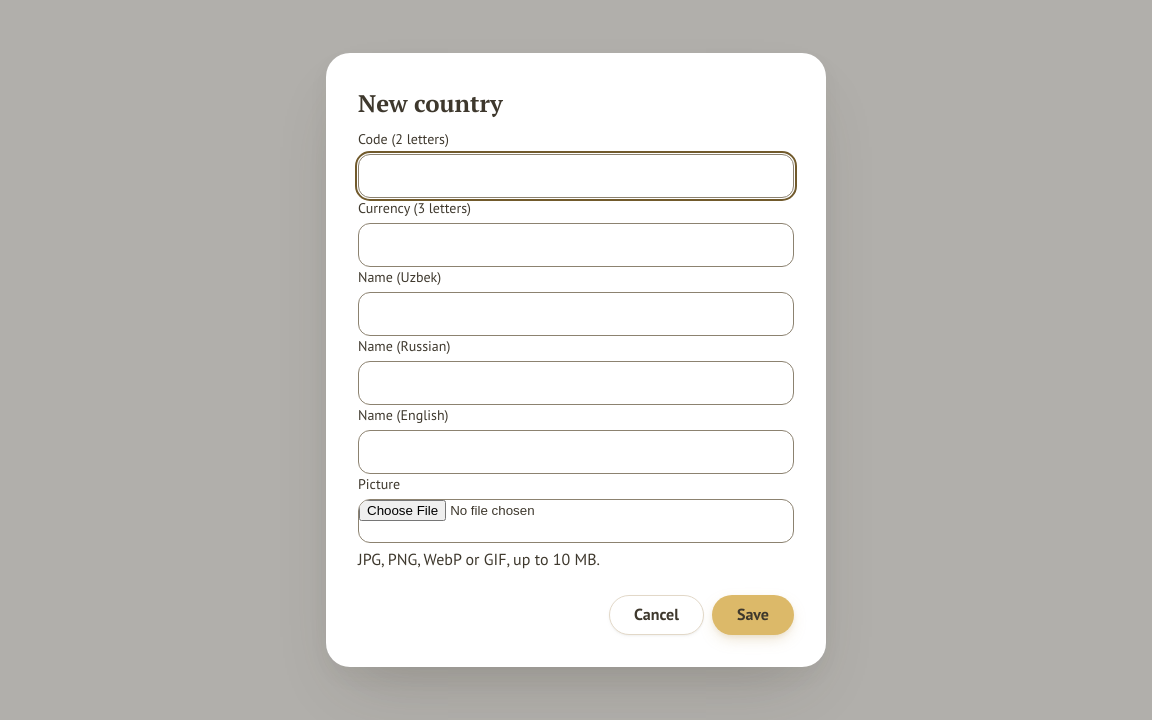
Test: GeographyRowDialog picture › refuses to add a country without a picture and says so
Type "tr" into the field labelled "Code (2 letters)" at (576, 176), box [358, 154, 794, 198]
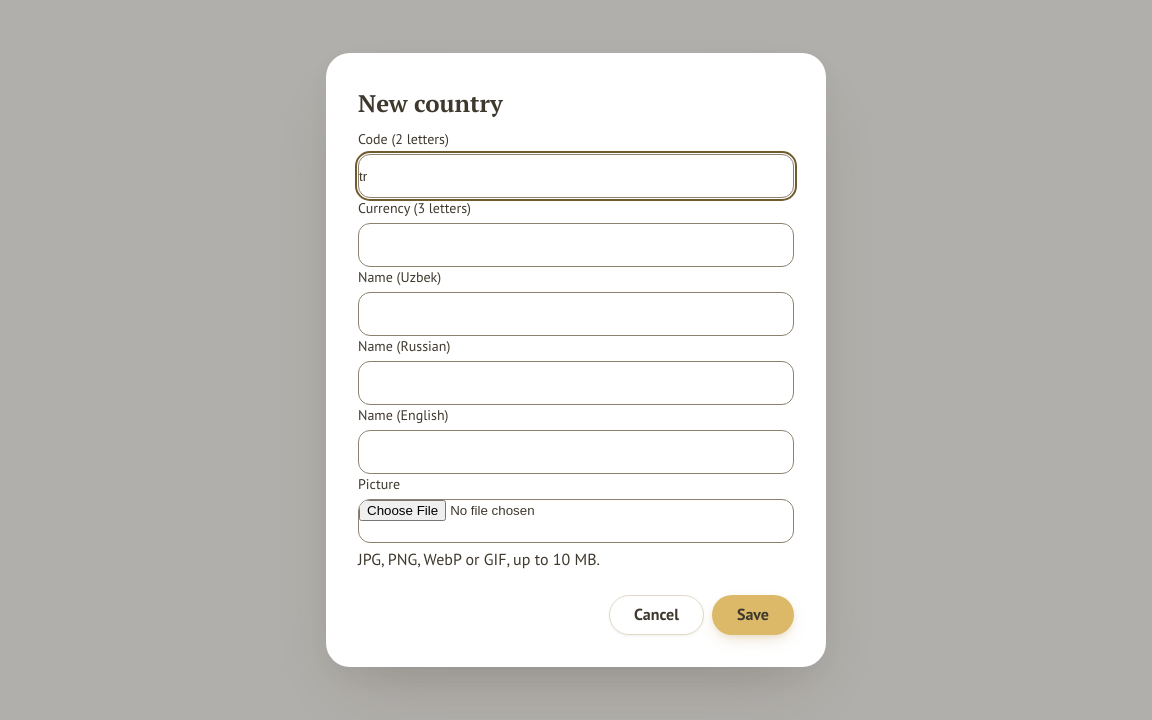
Type "try" into the field labelled "Currency (3 letters)" at (576, 245), box [358, 223, 794, 267]
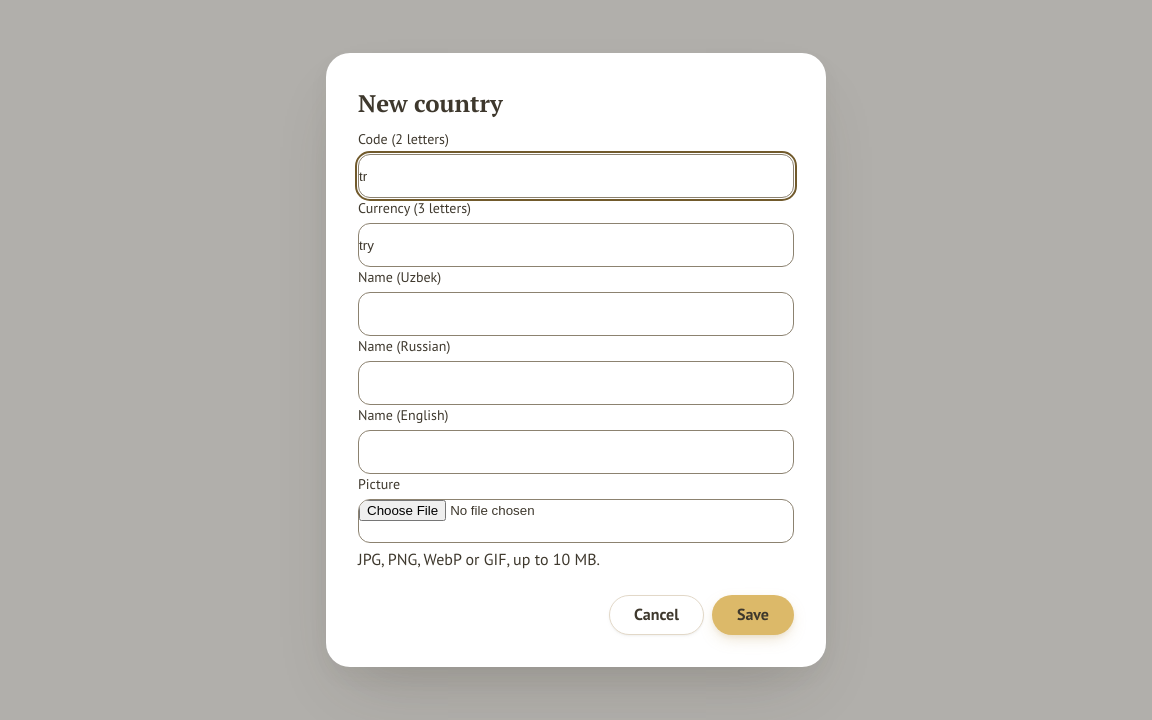
Type "Turkiya" into the field labelled "Name (Uzbek)" at (576, 314), box [358, 292, 794, 336]
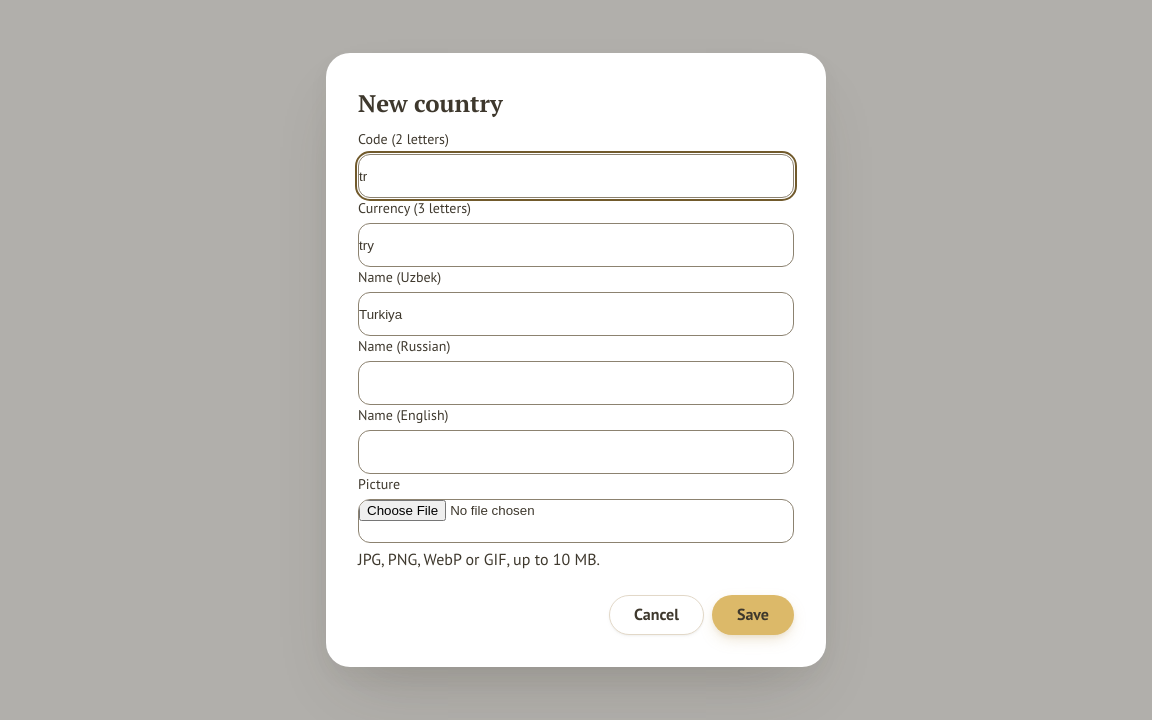
Type "Турция" into the field labelled "Name (Russian)" at (576, 383), box [358, 361, 794, 405]
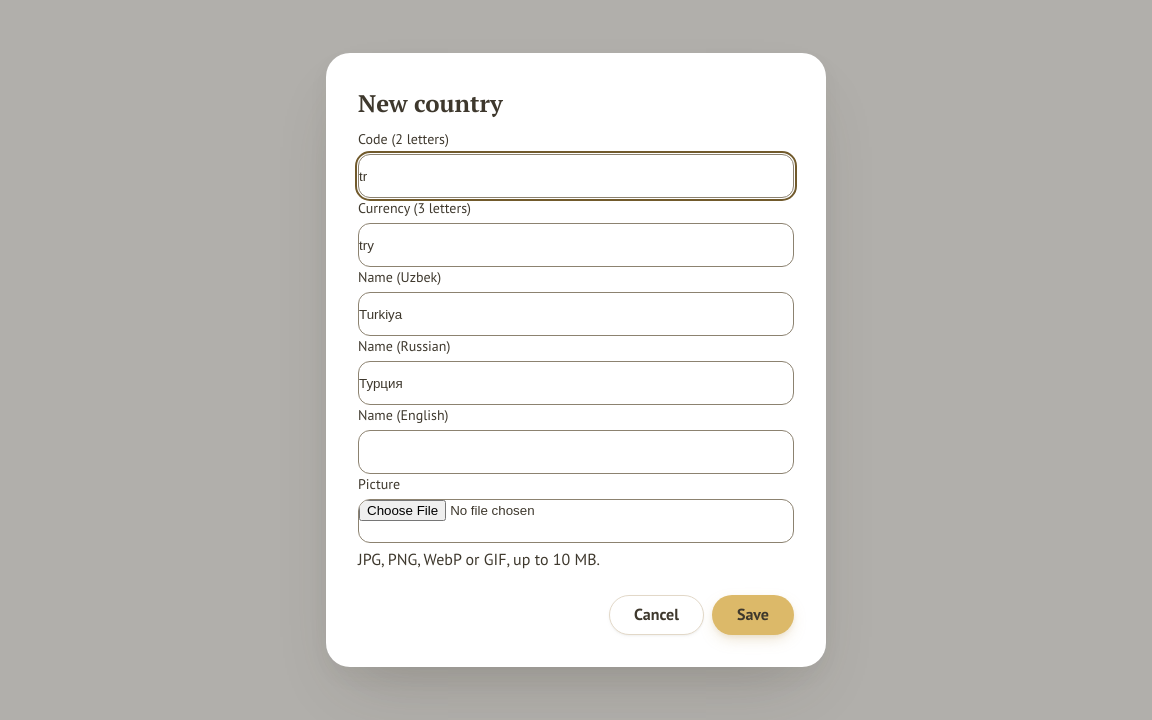
Type "Turkey" into the field labelled "Name (English)" at (576, 452), box [358, 430, 794, 474]
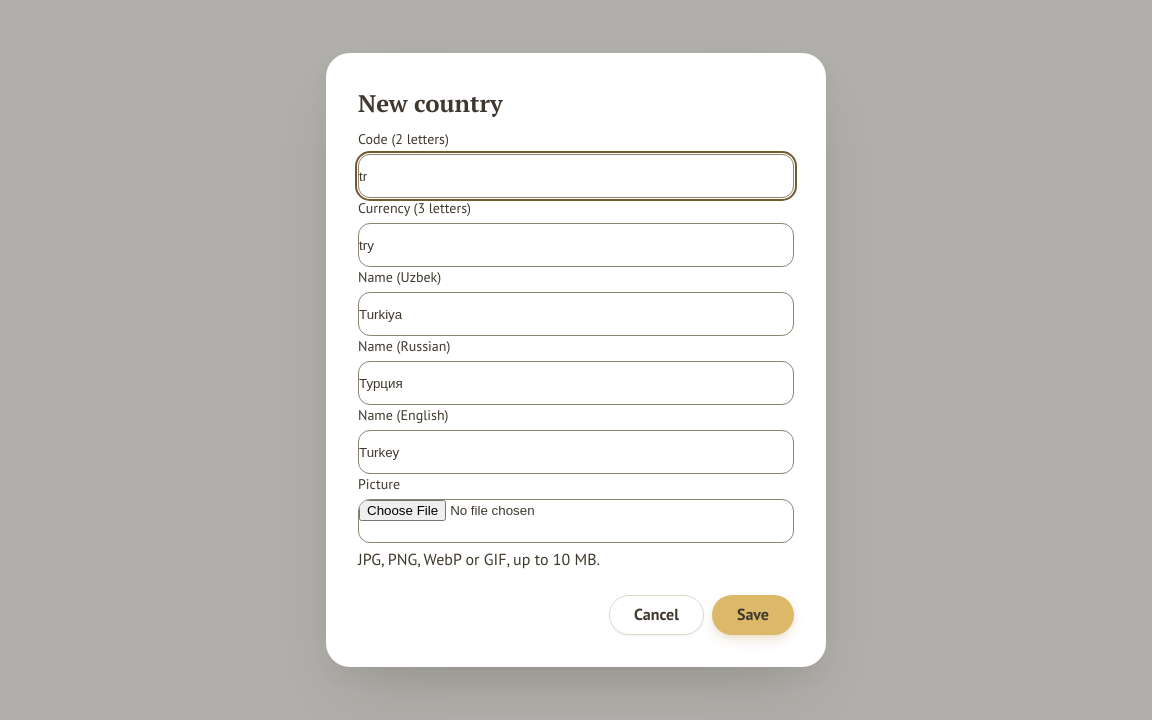
Click the button "Save" at (753, 615), box [712, 595, 794, 635]
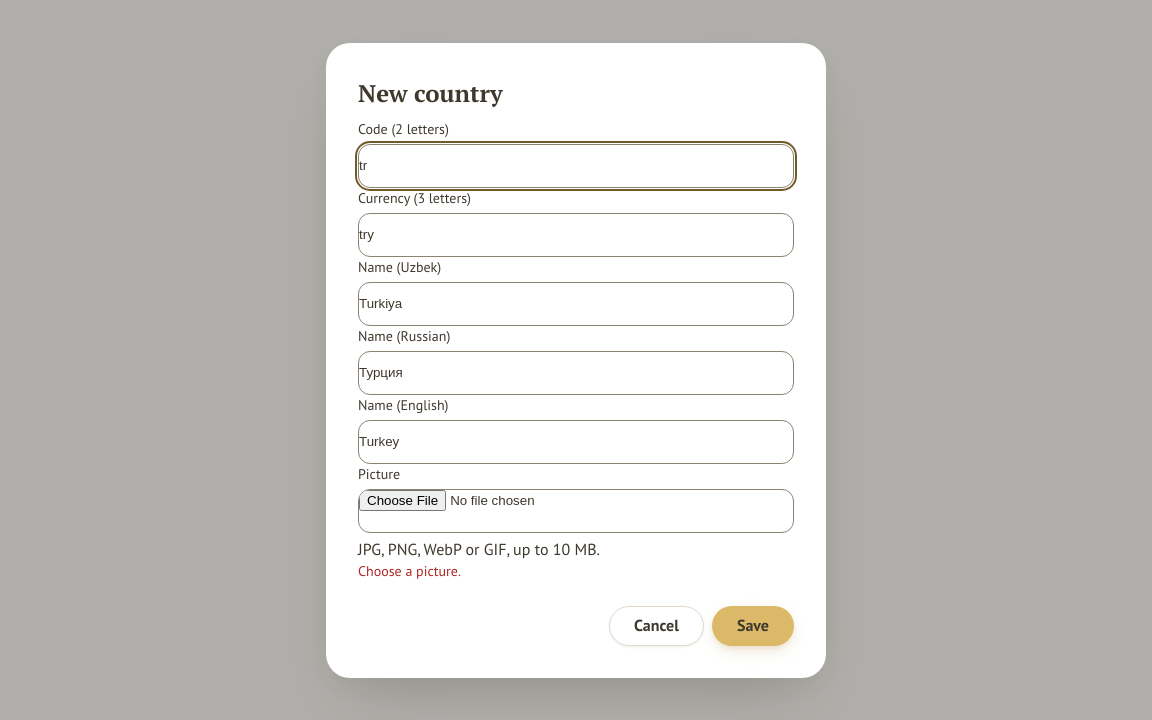
Expected: the message reads "Choose a picture.", [358, 562, 461, 580]
